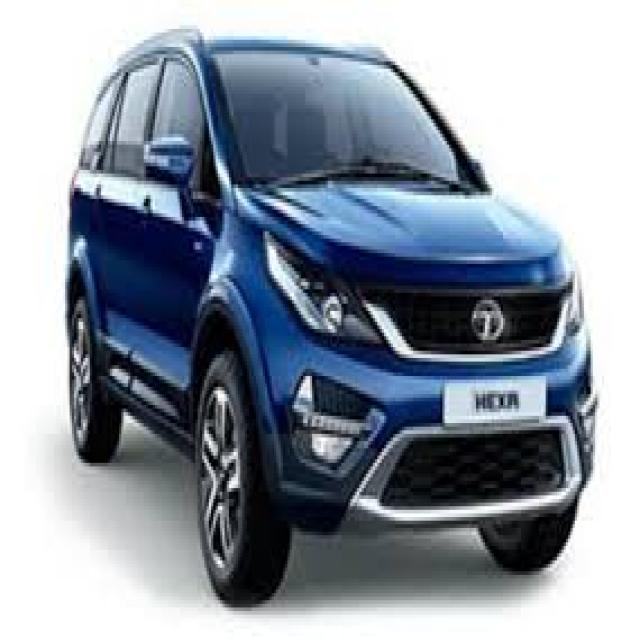SUV: (76, 22, 602, 603)
